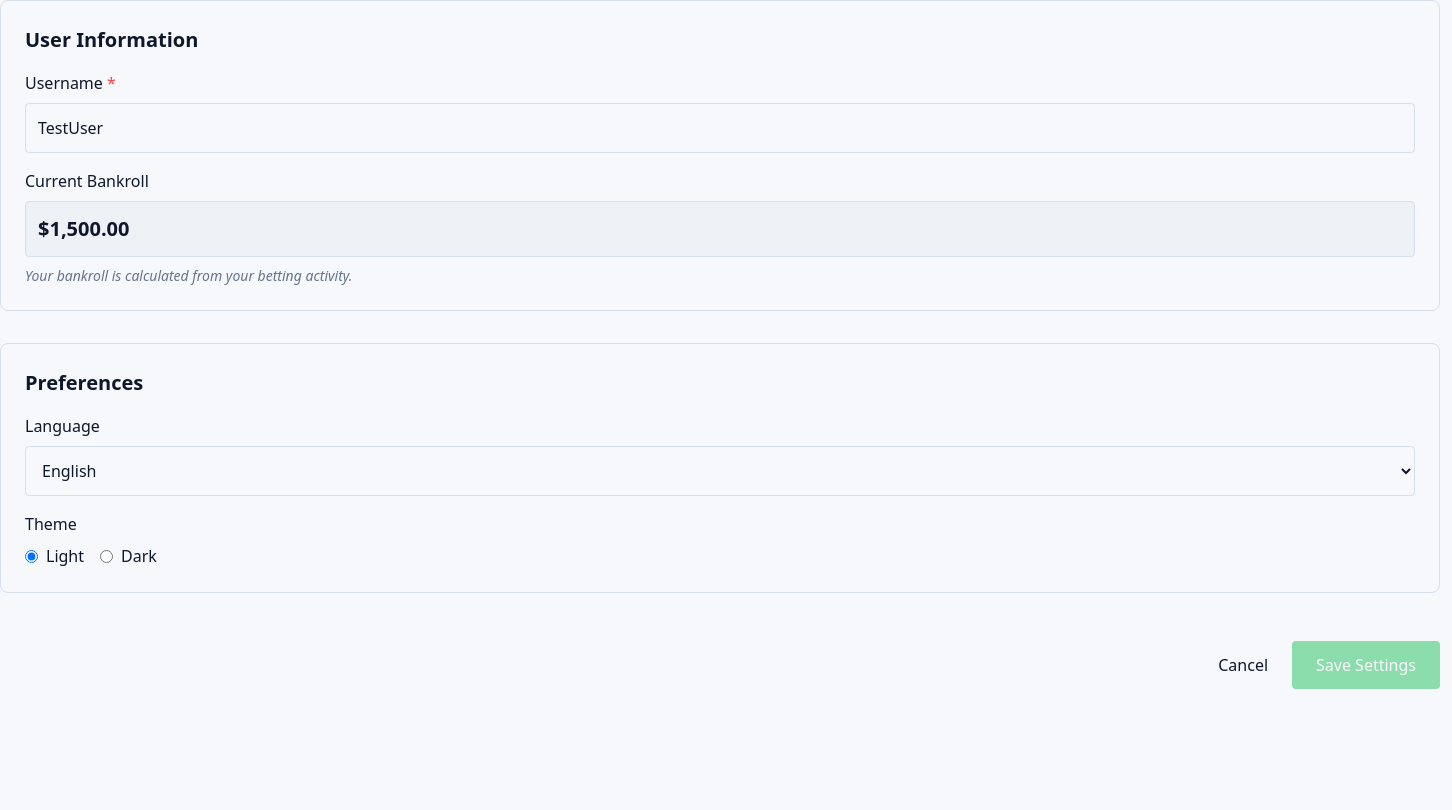
Test: SettingsForm › Form Submission › displays error message in UI when mutation fails
Replace the text in the field labelled "Username" with "NewUsername" at {"x": 720, "y": 128}, box x1=25 y1=103 x2=1415 y2=153
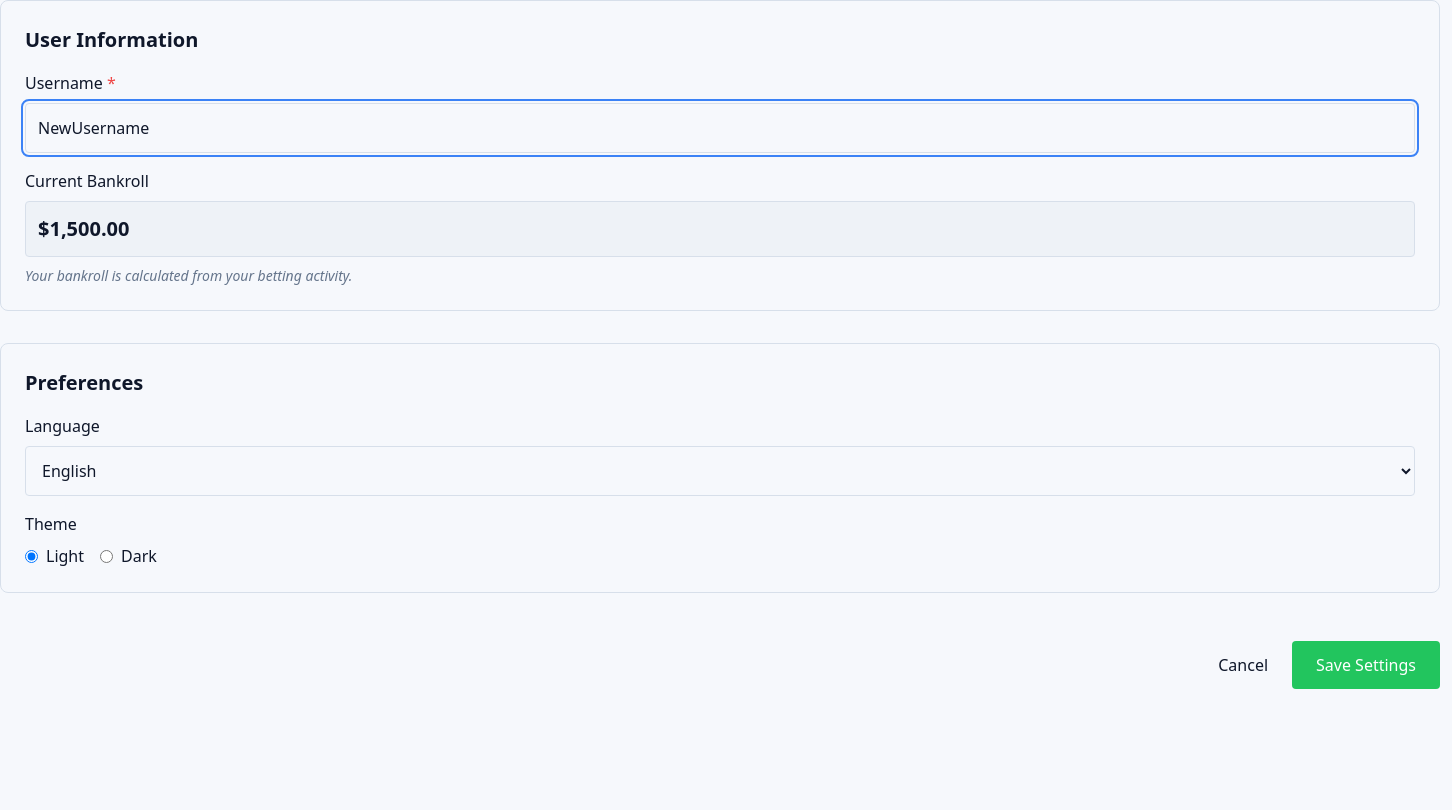
Click the button "Save Settings" at {"x": 1366, "y": 665}, box x1=1292 y1=641 x2=1440 y2=689
(page scrolled)
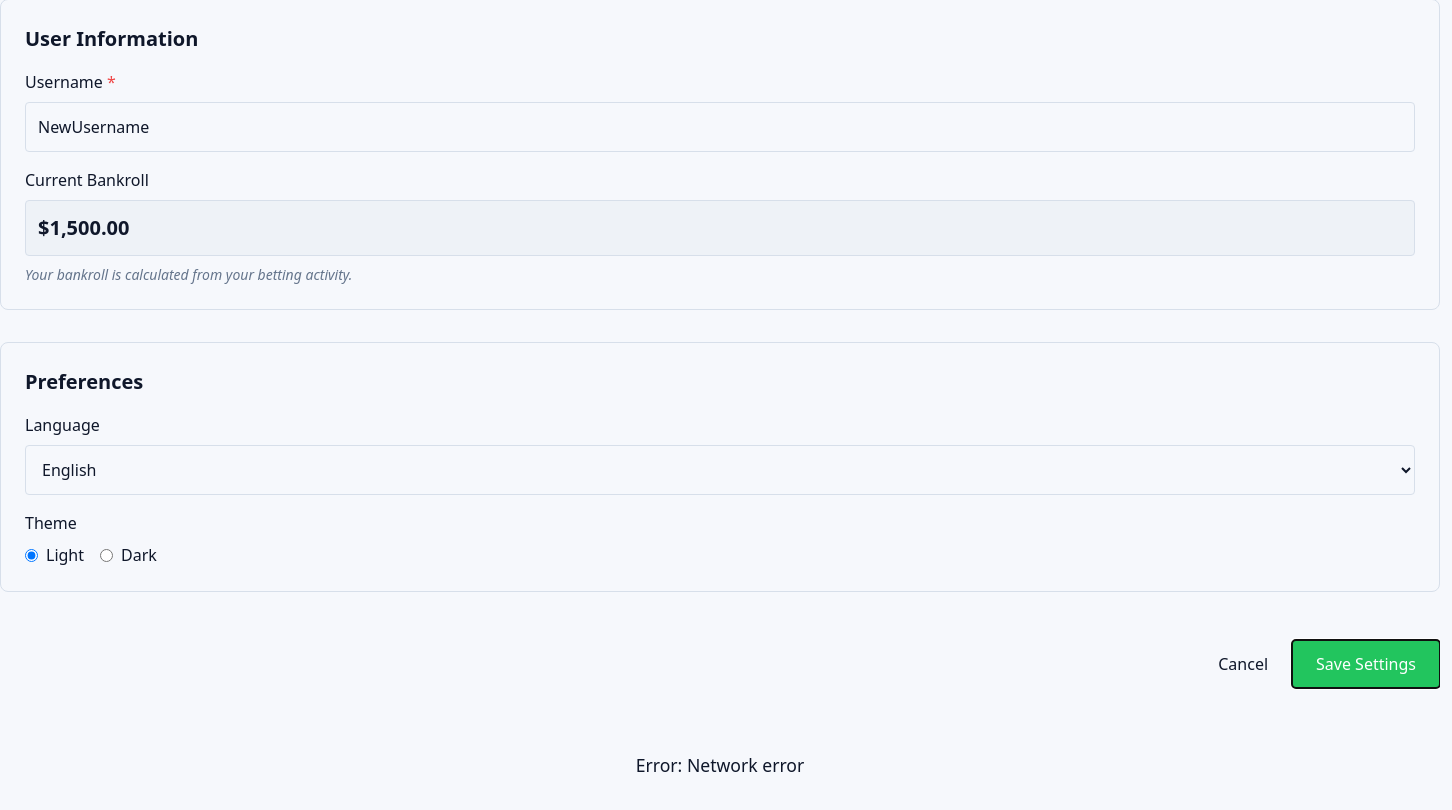
Check: the text "Error: Network error" is shown, box x1=636 y1=753 x2=804 y2=777
